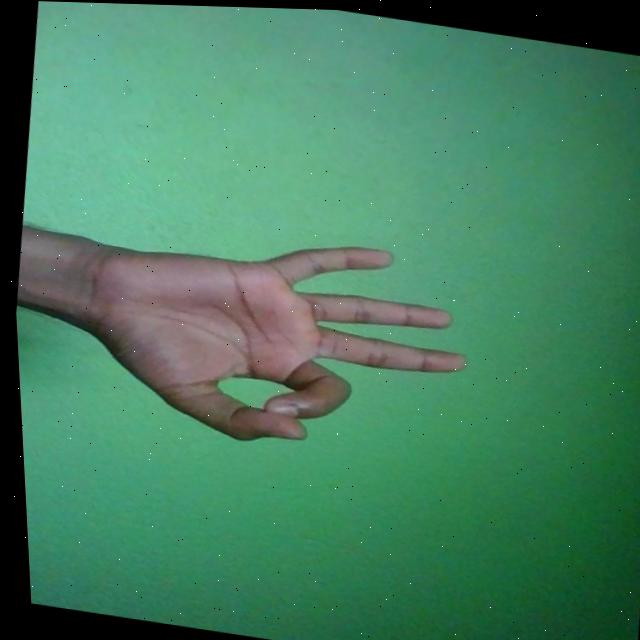Ok: (52, 202, 484, 472)
